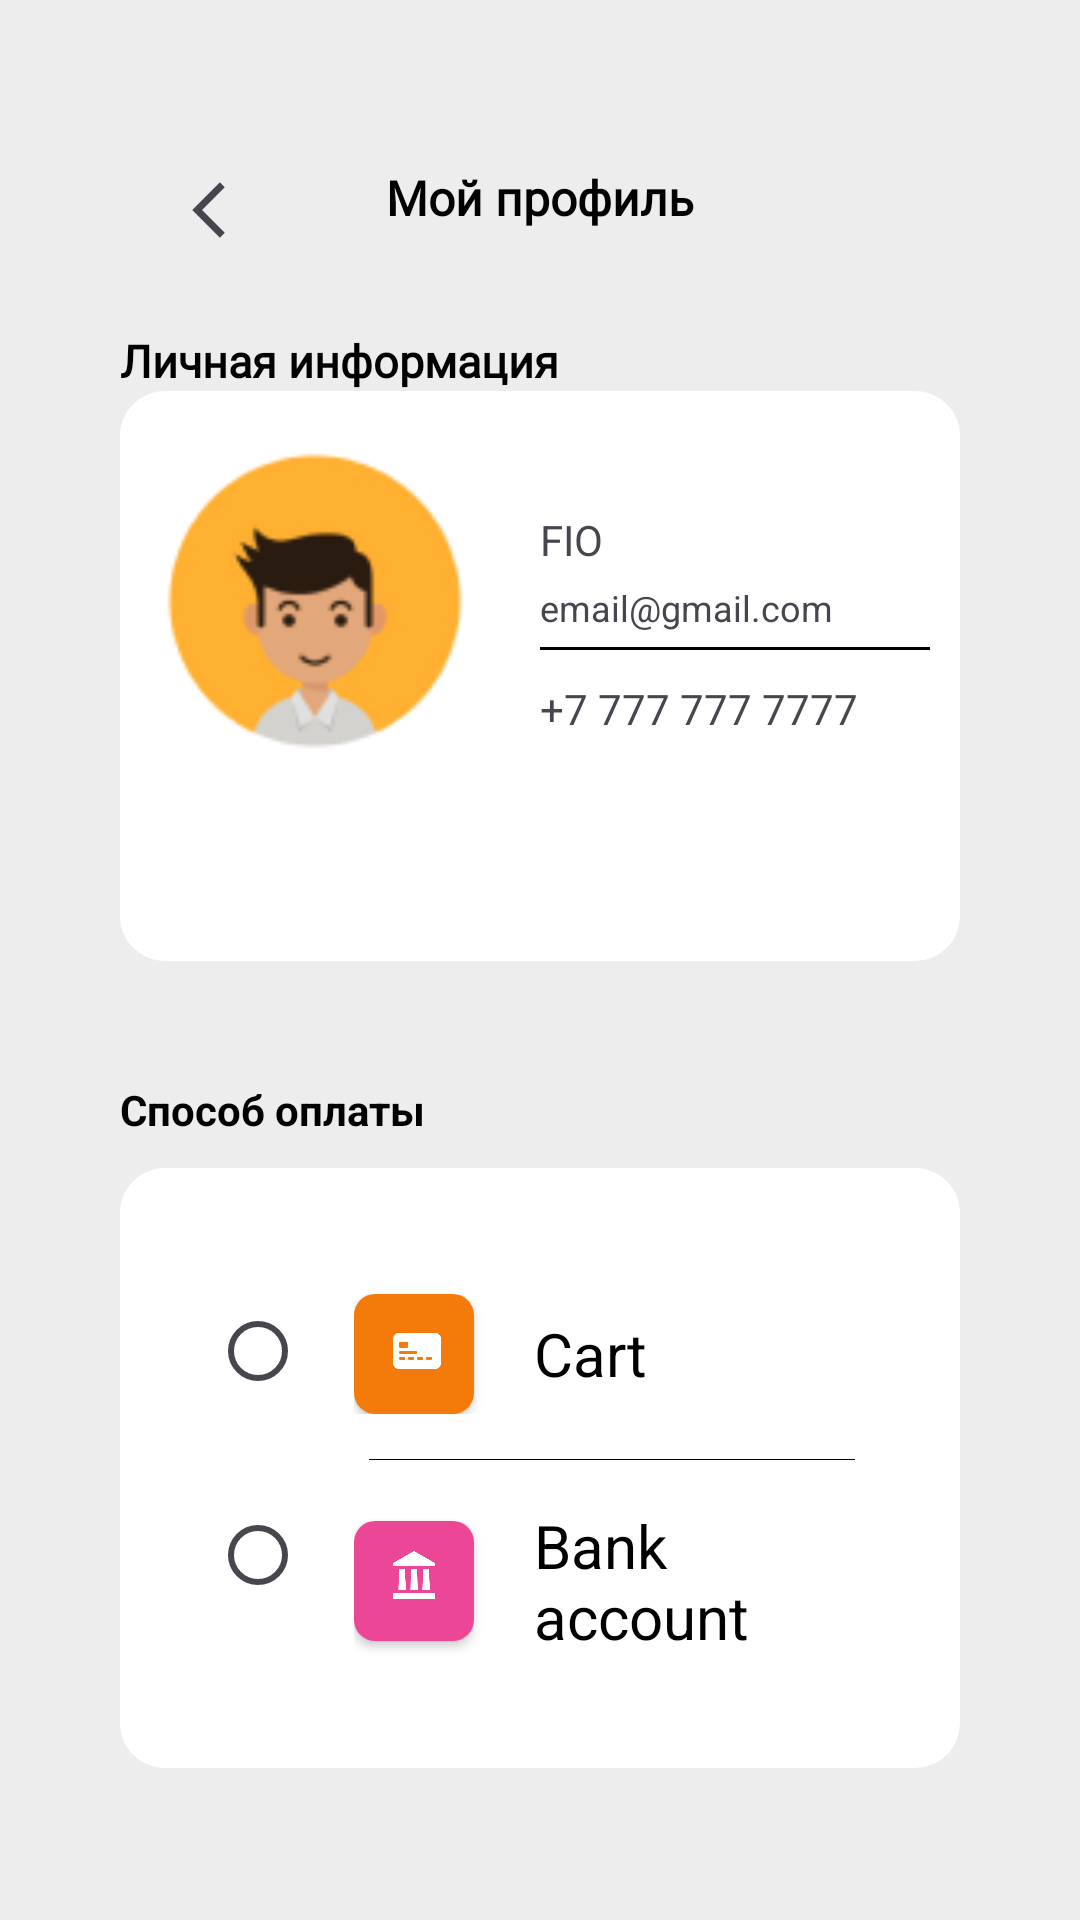

Icons on this 1080w x 1920h Android screen, each with its box as (x1, y1, x2, y2):
chevron left: (192, 182, 225, 238)
